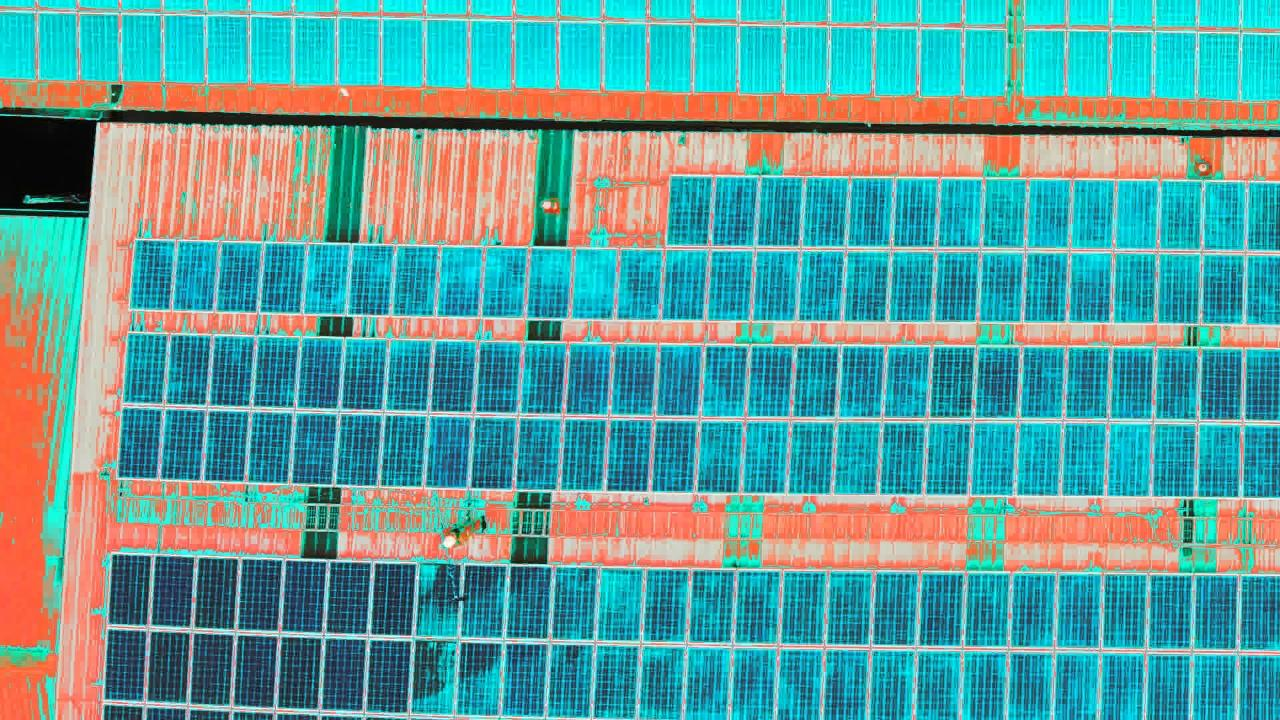clean: (124, 334, 1280, 493), (669, 173, 1280, 317), (130, 237, 664, 323), (111, 559, 415, 710)
dirty: (417, 563, 1280, 719), (4, 5, 1012, 99), (1025, 27, 1280, 100)
